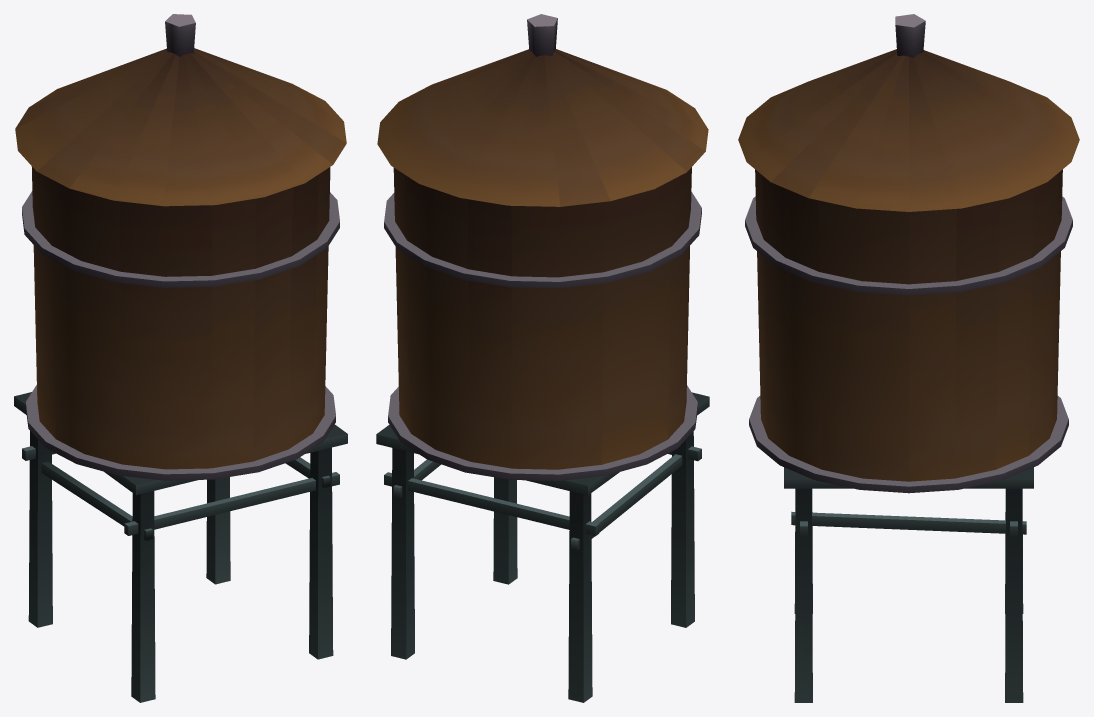
File: Water_Tank_1A.fbx
3 views of the same model, side by side, from view 1: azimuth 30°, elevation 25°; view 2: azimuth 150°, elevation 25°; view 3: azimuth 270°, elevation 25° (orthographic). The views are drawn at different scales.
Visible parts, largest first — view 1: Water_Tank_1A; view 2: Water_Tank_1A; view 3: Water_Tank_1A.
Part boxes in pixels (left/top/right/bottom): Water_Tank_1A: left=14, top=14, right=347, bottom=702; Water_Tank_1A: left=376, top=14, right=709, bottom=702; Water_Tank_1A: left=738, top=14, right=1079, bottom=702.
Size of the model in its own units: 325 by 665 by 325.
